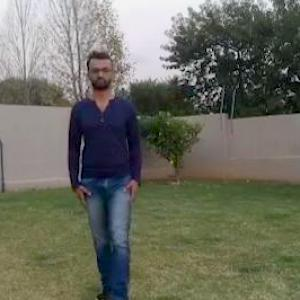follow: (80, 63, 142, 299)
